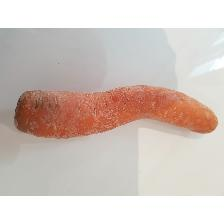Karotte: (7, 78, 220, 142)
